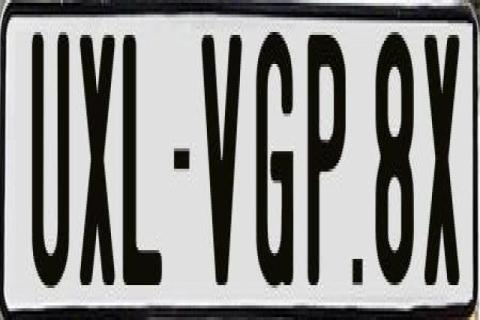0: (374, 29, 417, 297)
G: (254, 32, 298, 300)
L: (122, 35, 164, 297)
P: (307, 32, 351, 282)
U: (30, 32, 68, 294)
V: (199, 32, 245, 294)
X: (80, 35, 118, 294), (424, 32, 462, 288)
